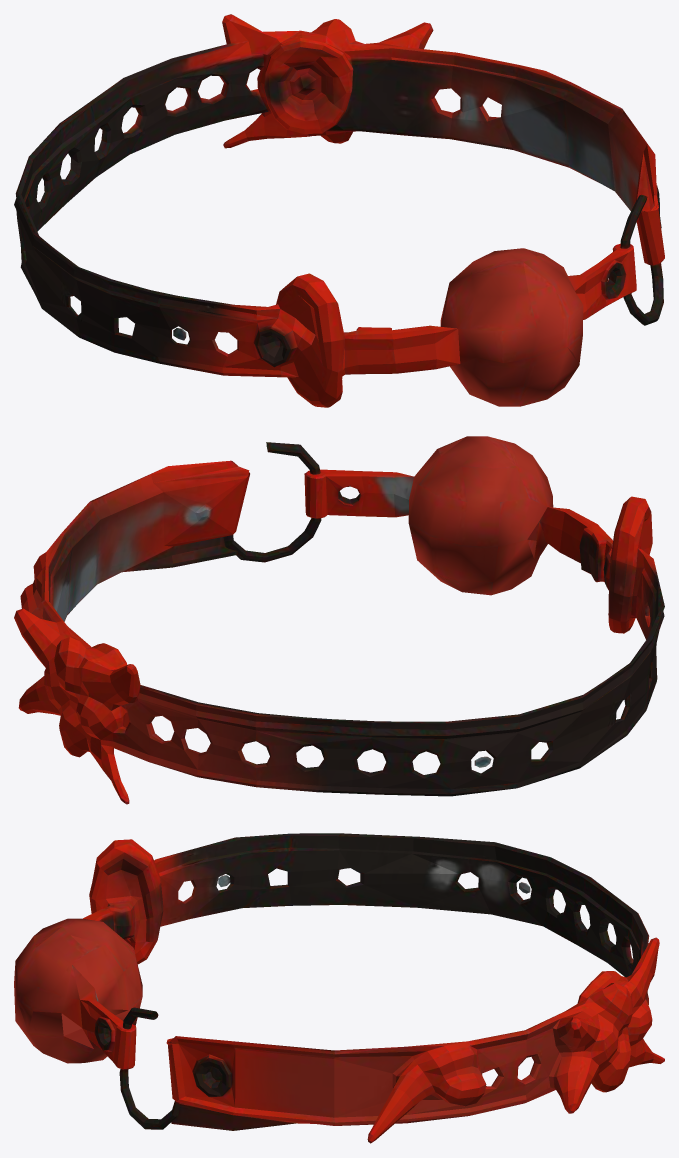
The model's file is gag.glb.
3 renders of one model, top to bottom at view 1: azimuth 30°, elevation 25°; view 2: azimuth 150°, elevation 25°; view 3: azimuth 270°, elevation 25°, orthographic. The views are drawn at different scales.
Visible parts, largest first — view 1: vizcom_node_0; view 2: vizcom_node_0; view 3: vizcom_node_0.
Boxes of the visible parts, x1=… form: vizcom_node_0: x1=14, y1=14, x2=664, y2=407; vizcom_node_0: x1=14, y1=436, x2=664, y2=804; vizcom_node_0: x1=14, y1=833, x2=664, y2=1143.
Size of the model in its own units: 1.64 by 0.4079 by 1.76.
Materials: 1 (1 with a texture image).
